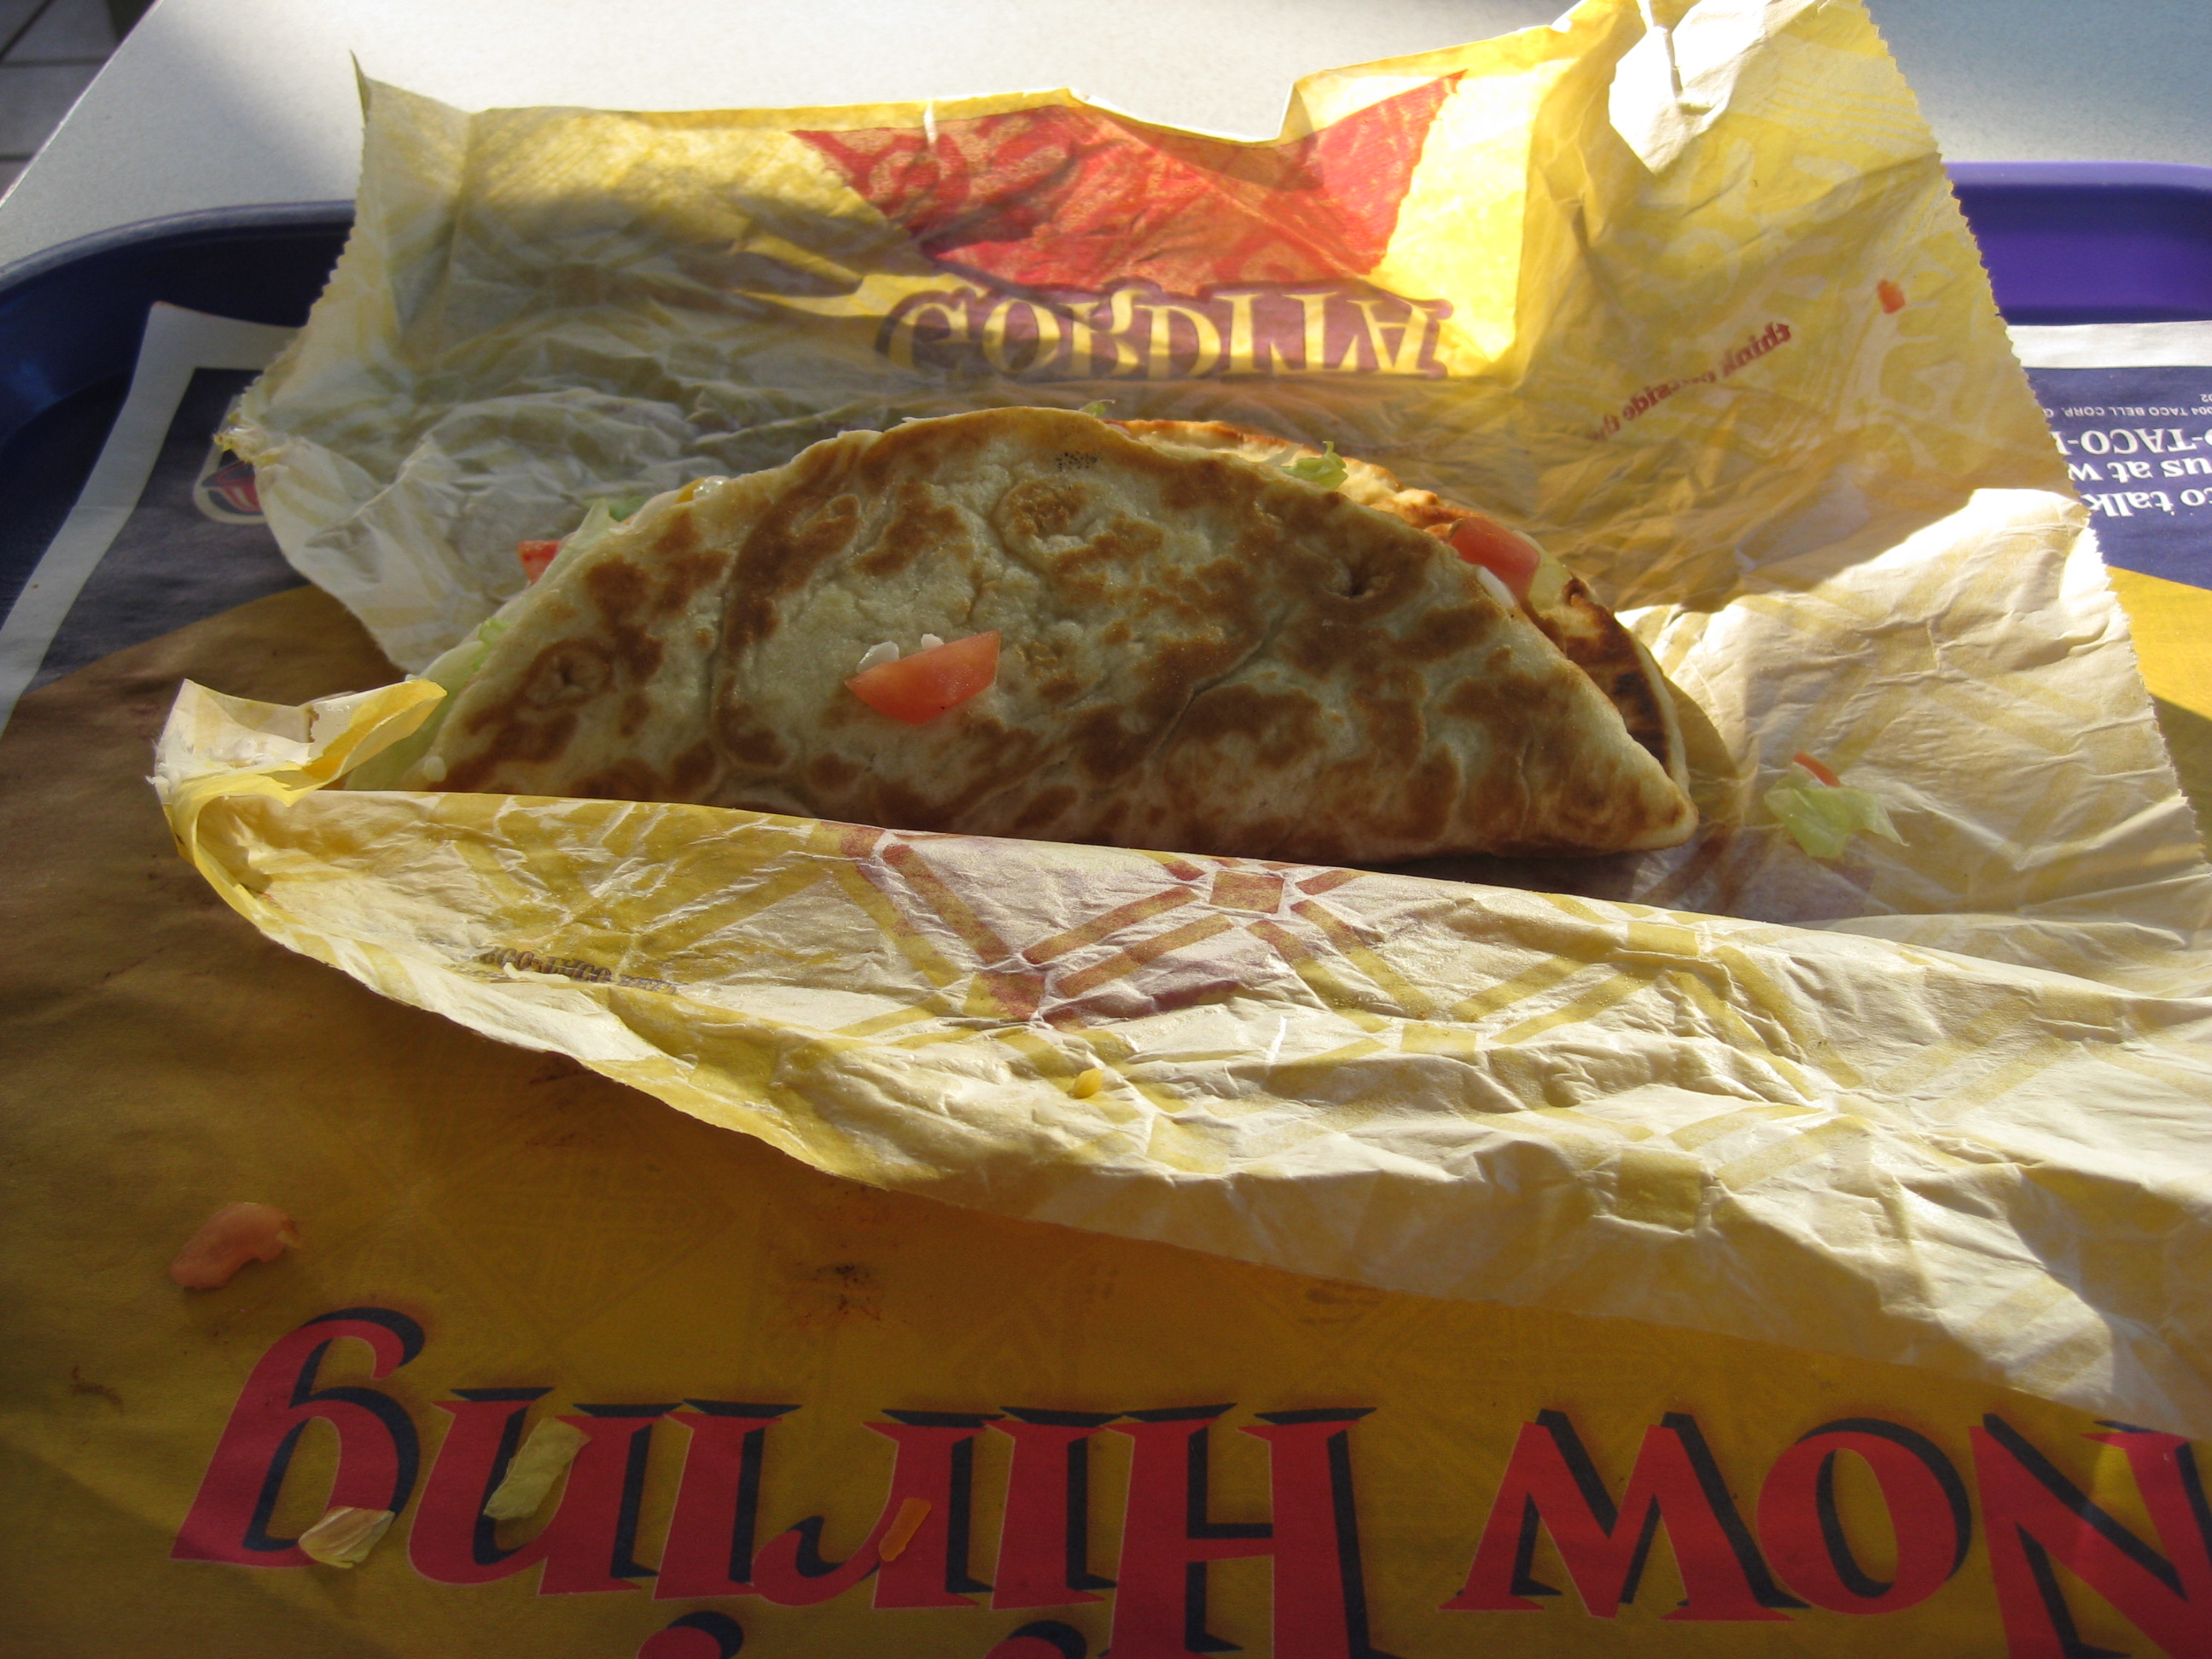taco: (397, 415, 1758, 880)
